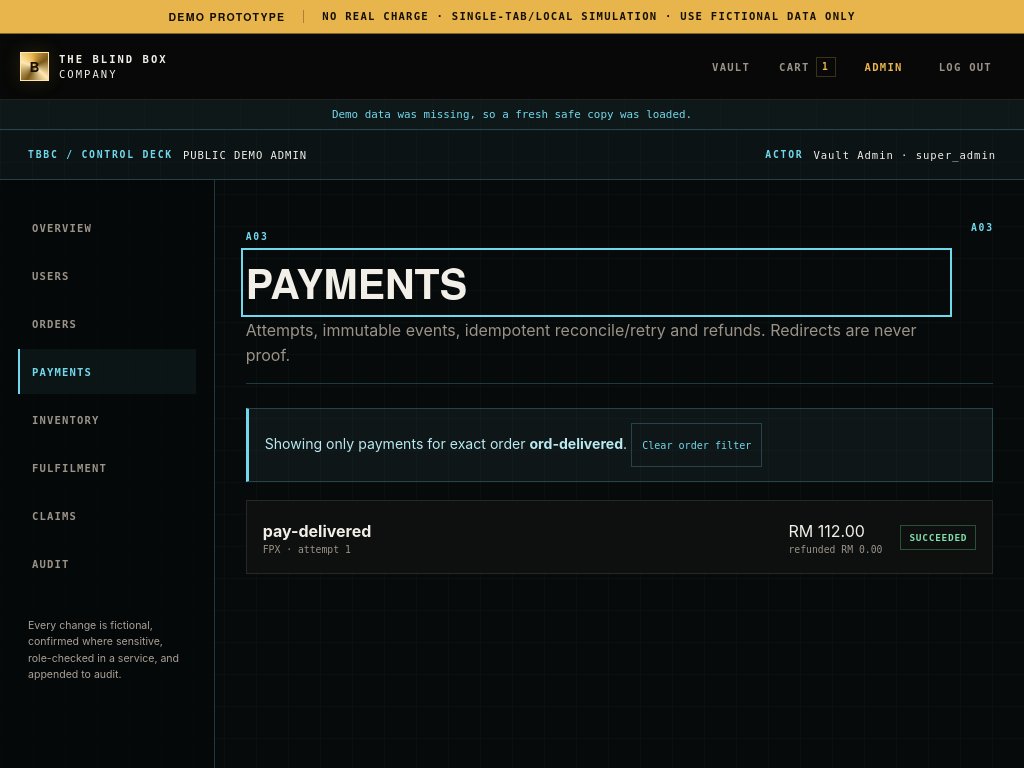
Scenario: app components › keeps generic full refund available for a rejected claim
The width and height of the screenshot is (1024, 768).
Click the heading that starts with "pay-delivered" at (317, 531), box [263,522,976,555]
(page scrolled)
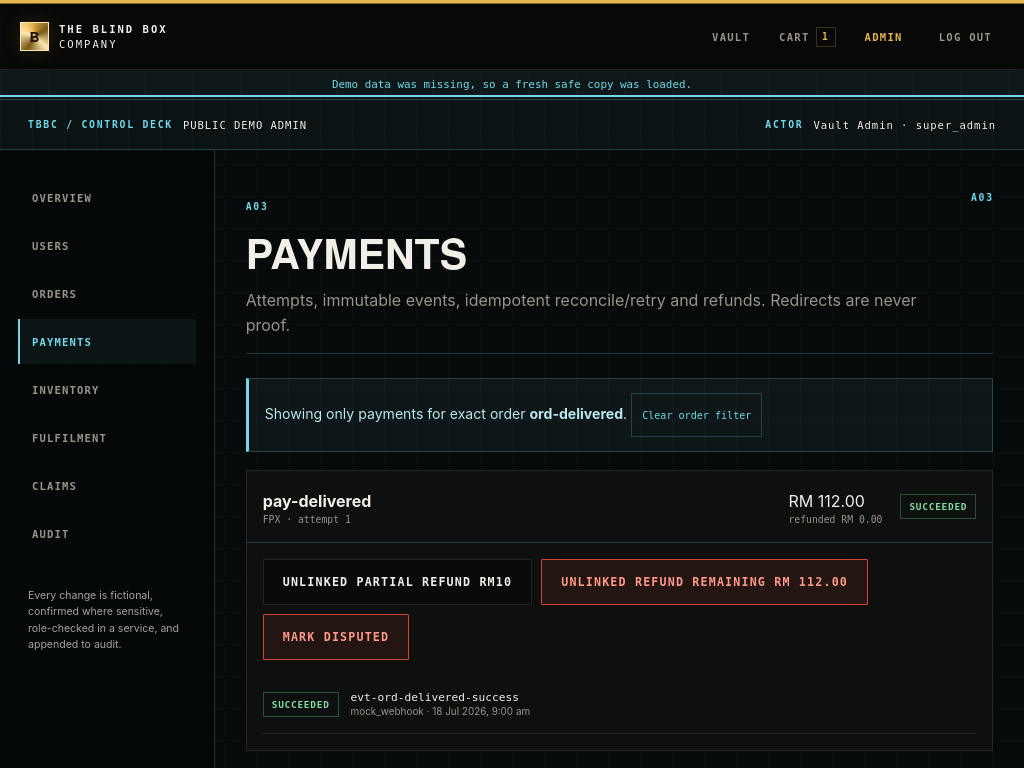
Check: the button "Unlinked refund remaining RM 112.00" is shown, box [541,559,868,605]
